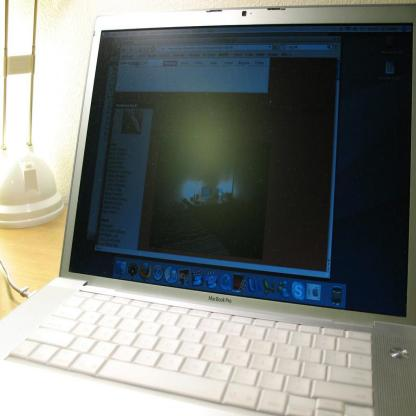board: (1, 2, 416, 416)
